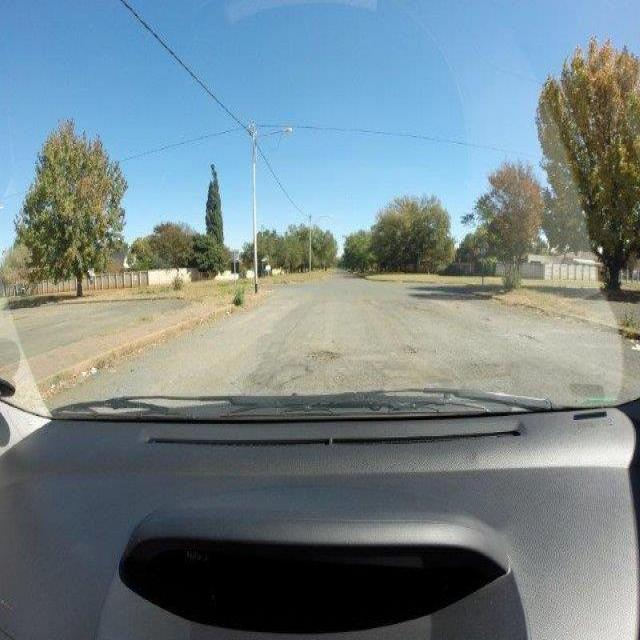lubang: (298, 348, 345, 372), (401, 344, 417, 356)
